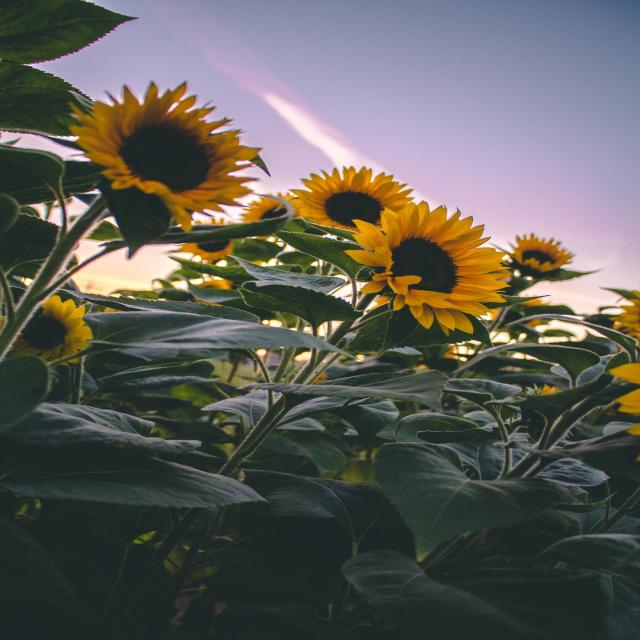sunflower: (71, 75, 264, 239), (336, 190, 534, 336), (275, 156, 426, 248), (507, 226, 580, 280)
